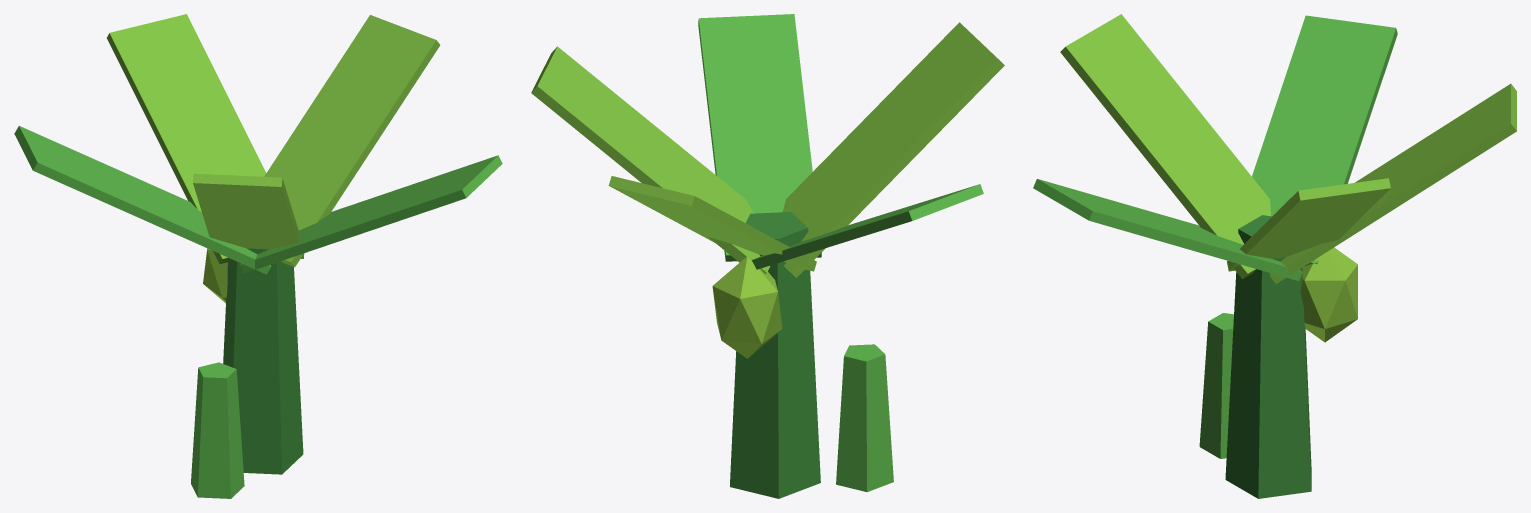
File: bananeira.glb
The picture shows the model from 3 angles, left to right: view 1: azimuth 30°, elevation 25°; view 2: azimuth 150°, elevation 25°; view 3: azimuth 270°, elevation 25°; orthographic projection. The views are drawn at different scales.
Visible parts, largest first — view 1: corpo; view 2: corpo; view 3: corpo.
Part boxes in pixels (x1=…): corpo: x1=14, y1=14, x2=502, y2=498; corpo: x1=531, y1=14, x2=1004, y2=498; corpo: x1=1033, y1=14, x2=1516, y2=498.
Bounding box in the file's own units: 0.5752 × 0.5031 × 0.5594.
